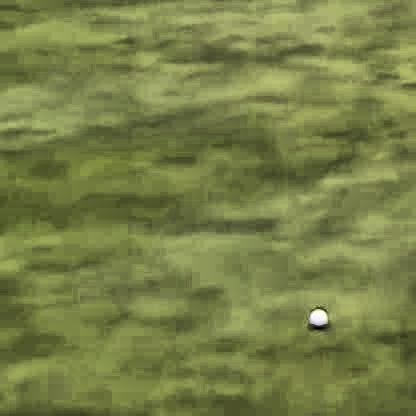golfball: (304, 301, 323, 325)
